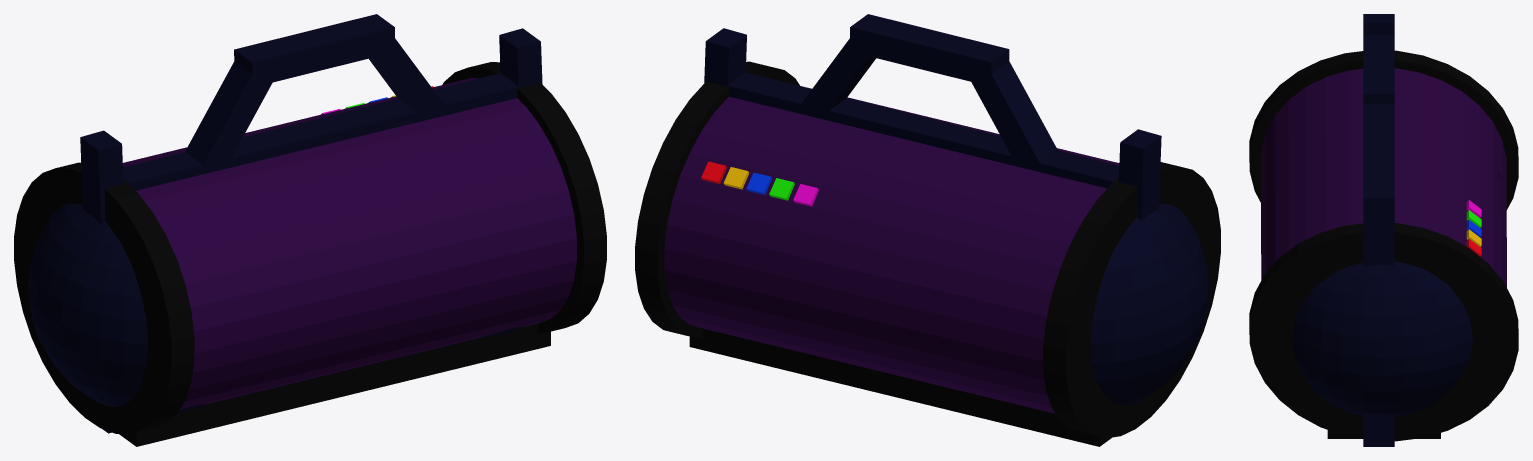
The model's file is BoomBox.fbx.
3 views of the same model, side by side, from view 1: azimuth 30°, elevation 25°; view 2: azimuth 150°, elevation 25°; view 3: azimuth 270°, elevation 25° (orthographic). The views are drawn at different scales.
Visible parts, largest first — view 1: Cube.012; view 2: Cube.012; view 3: Cube.012.
Part boxes in pixels (left/top/right/bottom): Cube.012: left=14, top=14, right=606, bottom=446; Cube.012: left=635, top=14, right=1220, bottom=446; Cube.012: left=1249, top=14, right=1518, bottom=446.
Size of the model in its own units: 121 by 73.58 by 62.27.
